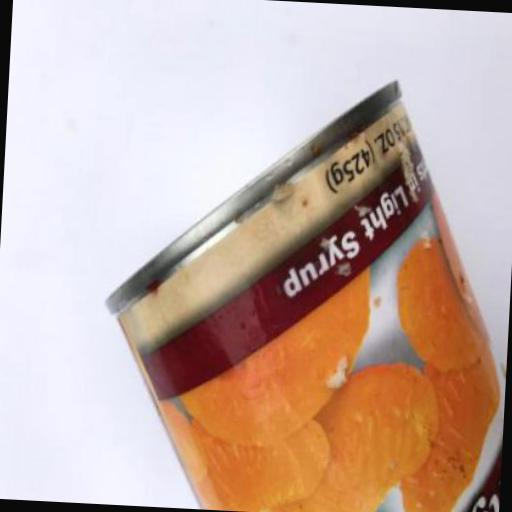metal: (93, 63, 512, 512)
